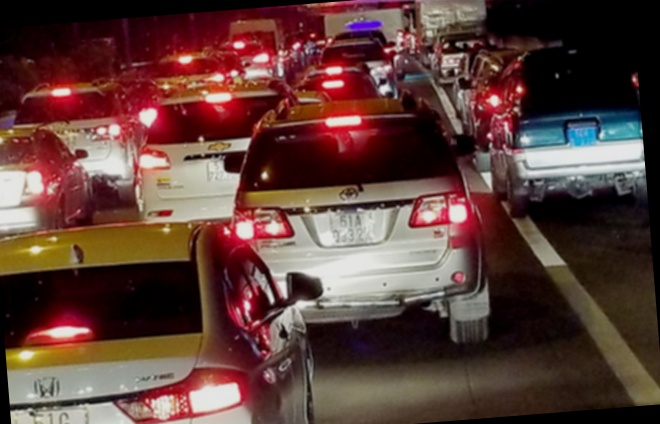Bien-so: (19, 372, 90, 416), (342, 208, 385, 241), (226, 146, 252, 168)
